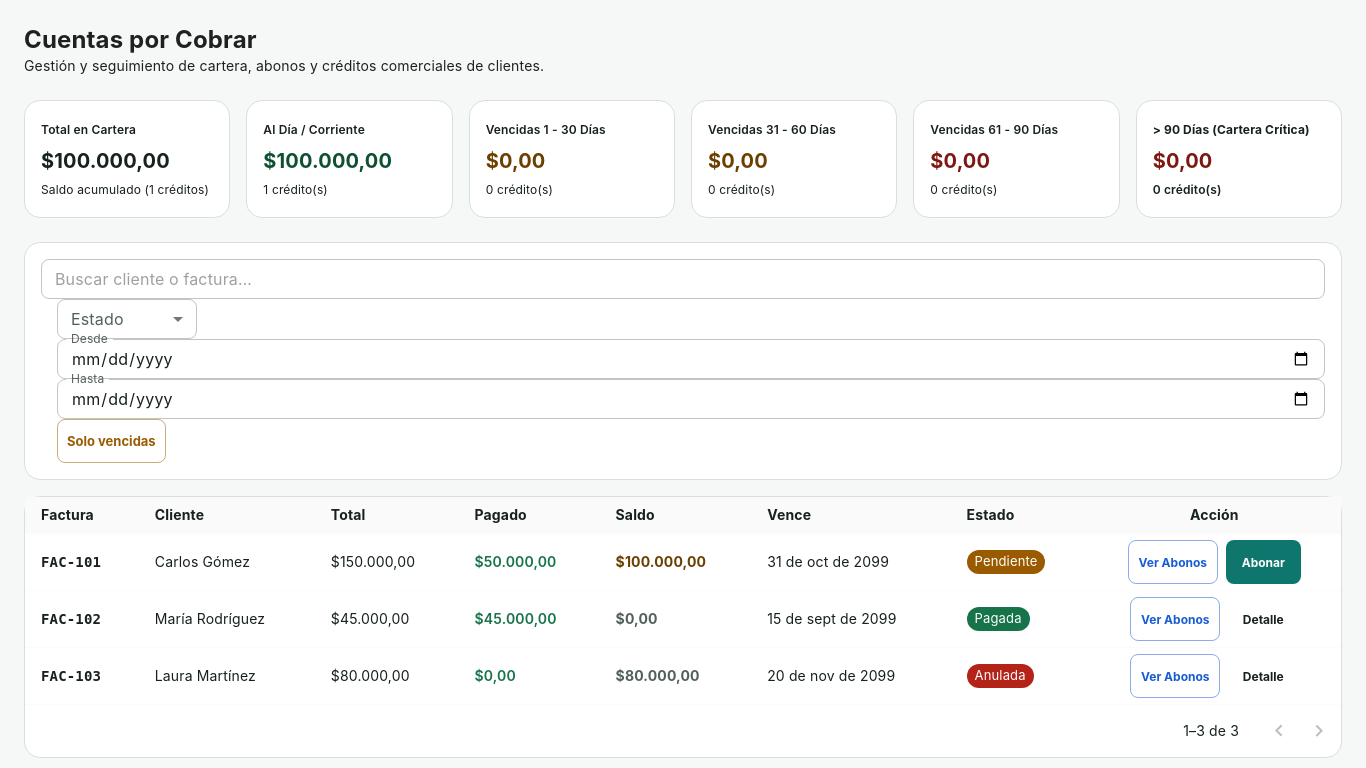
Test: ReceivablesPage: estados de cartera (FARM-AUD-003) › Caso 4: el filtro Anulada solicita y muestra solo sus registros
expect the text "FAC-101" is shown: met, box 41,554 -> 101,570
Press the mouse on the dropdown named "Estado" at (127, 319), box 57,299 -> 197,339
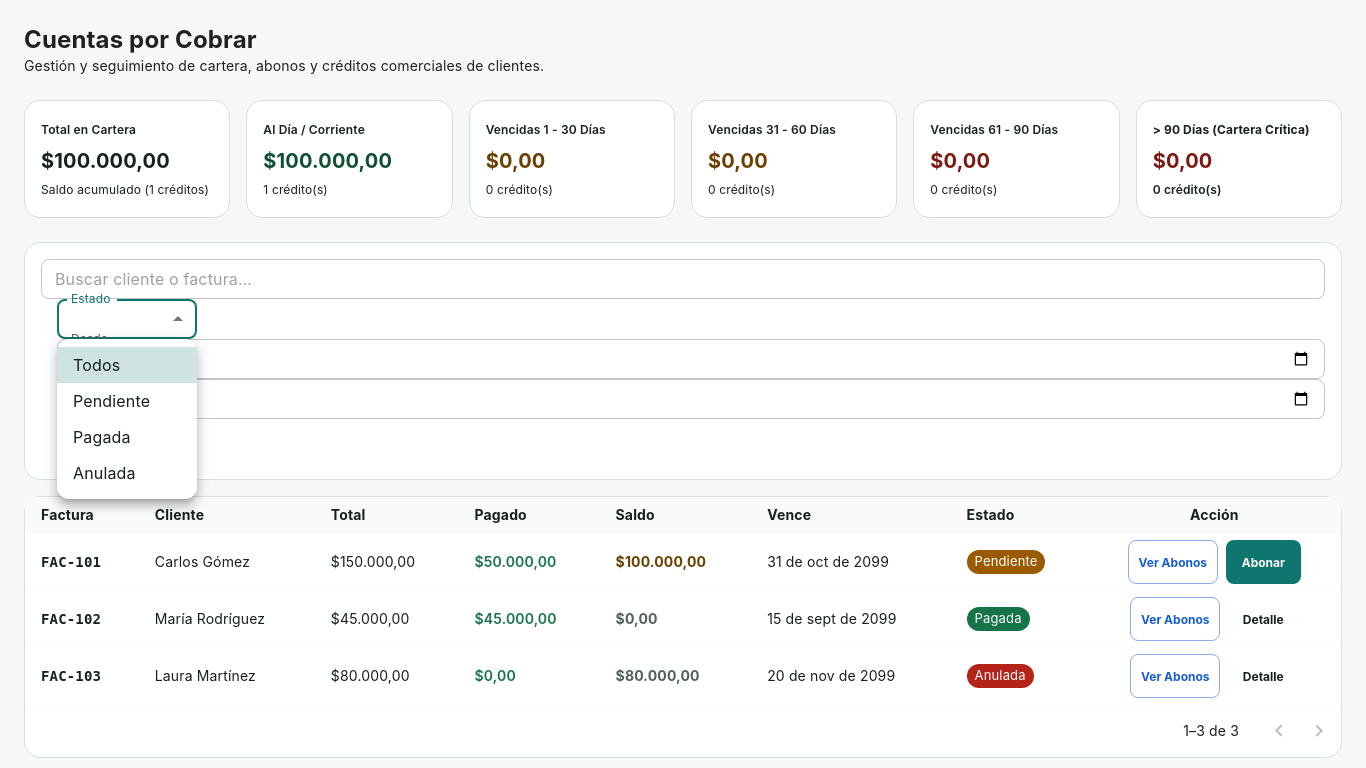
Click the option "Anulada".
click(104, 473)  # box 73,463 -> 136,483
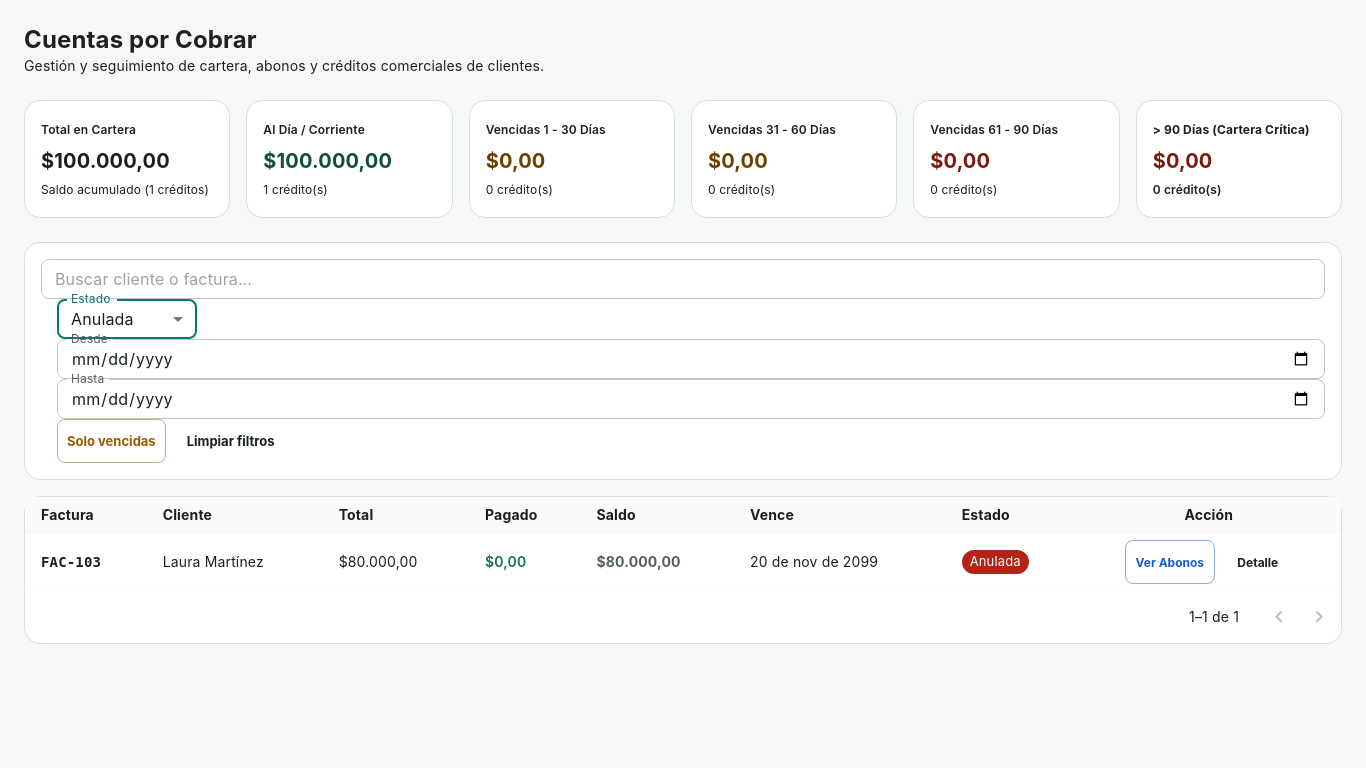
expect the text "FAC-103" is shown: met, box 25,534 -> 147,590
expect the text "FAC-101" is gone: met
expect the text "FAC-102" is gone: met
